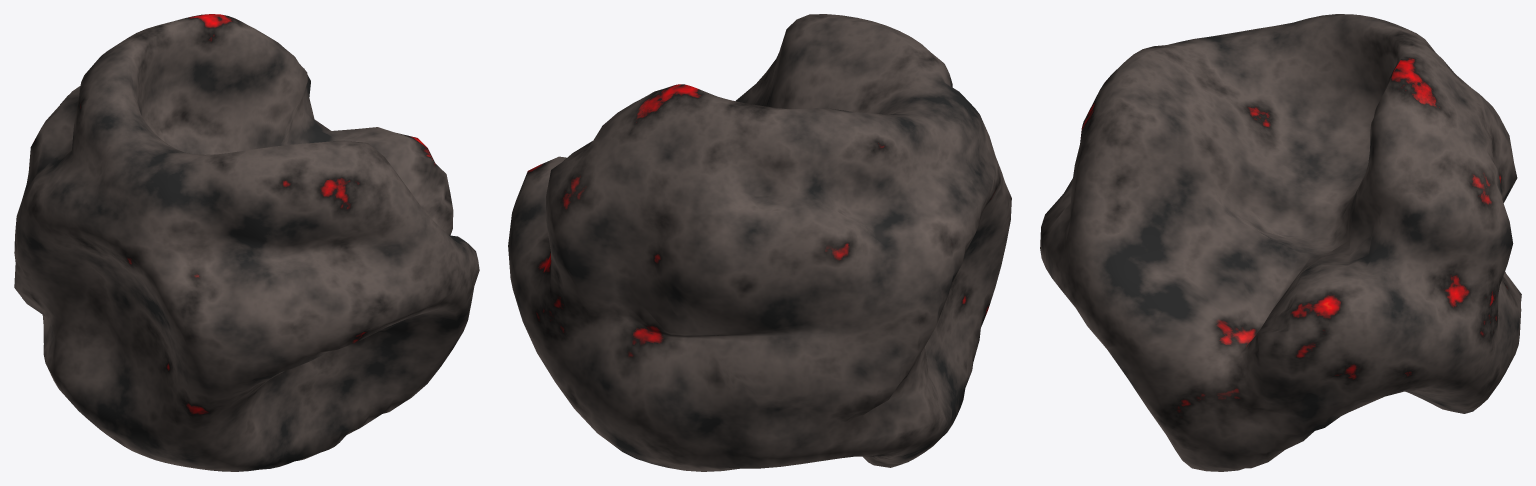
Rendered from meteor3.fbx.
3 views of the same model, side by side, from view 1: azimuth 30°, elevation 25°; view 2: azimuth 150°, elevation 25°; view 3: azimuth 270°, elevation 25° (orthographic). The views are drawn at different scales.
Parts seen in each view (by area): view 1: Sphere; view 2: Sphere; view 3: Sphere.
Part boxes in pixels (bbox=[...]): Sphere: bbox=[14, 14, 479, 471]; Sphere: bbox=[508, 14, 1011, 471]; Sphere: bbox=[1040, 14, 1521, 471].
Size of the model in its own units: 195 by 172 by 193.
1 material, 1 textured.
